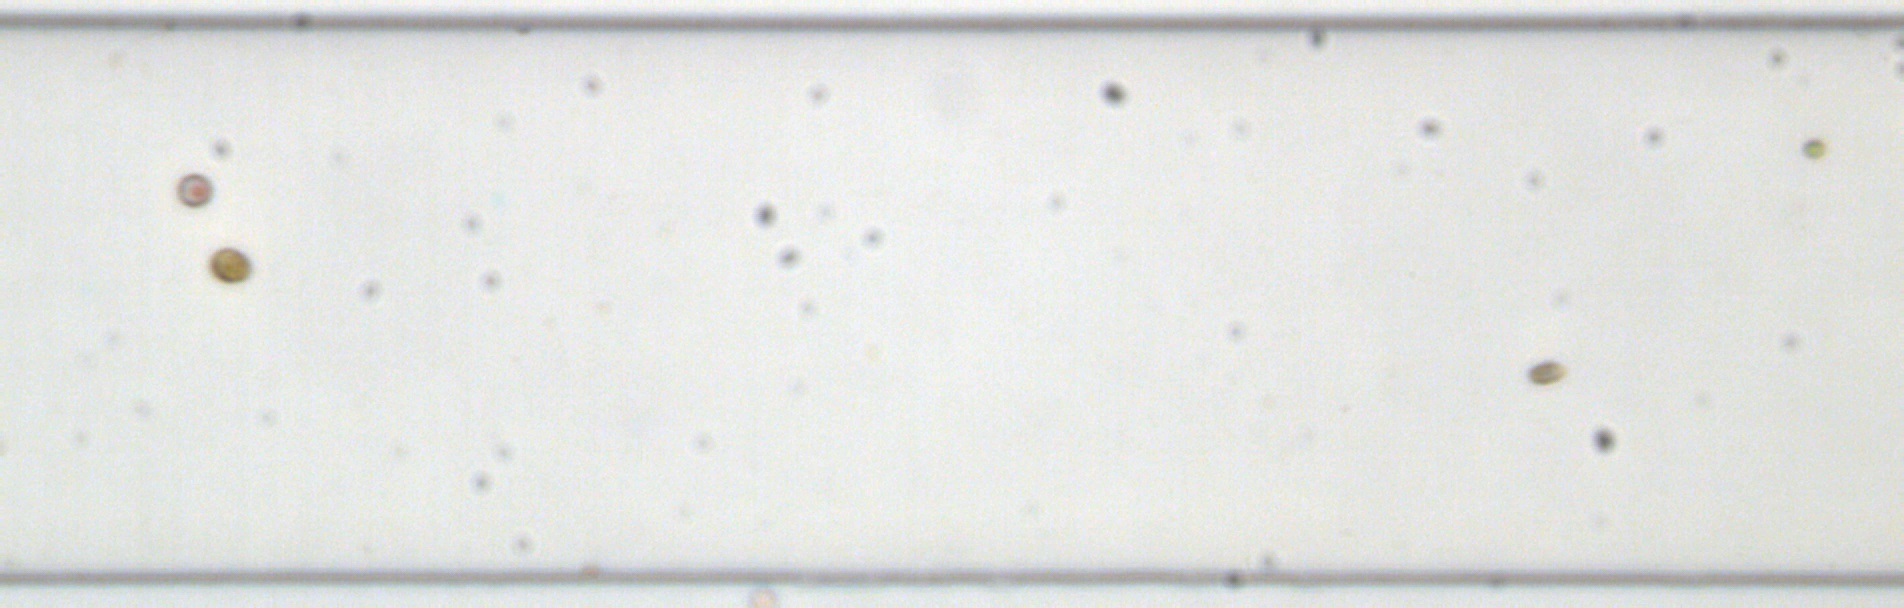Chlorella: (1801, 138, 1824, 160)
Dunaliella salina: (1528, 356, 1566, 386)
Effrenium: (206, 245, 254, 283)
Porphyridium: (174, 170, 215, 208)
